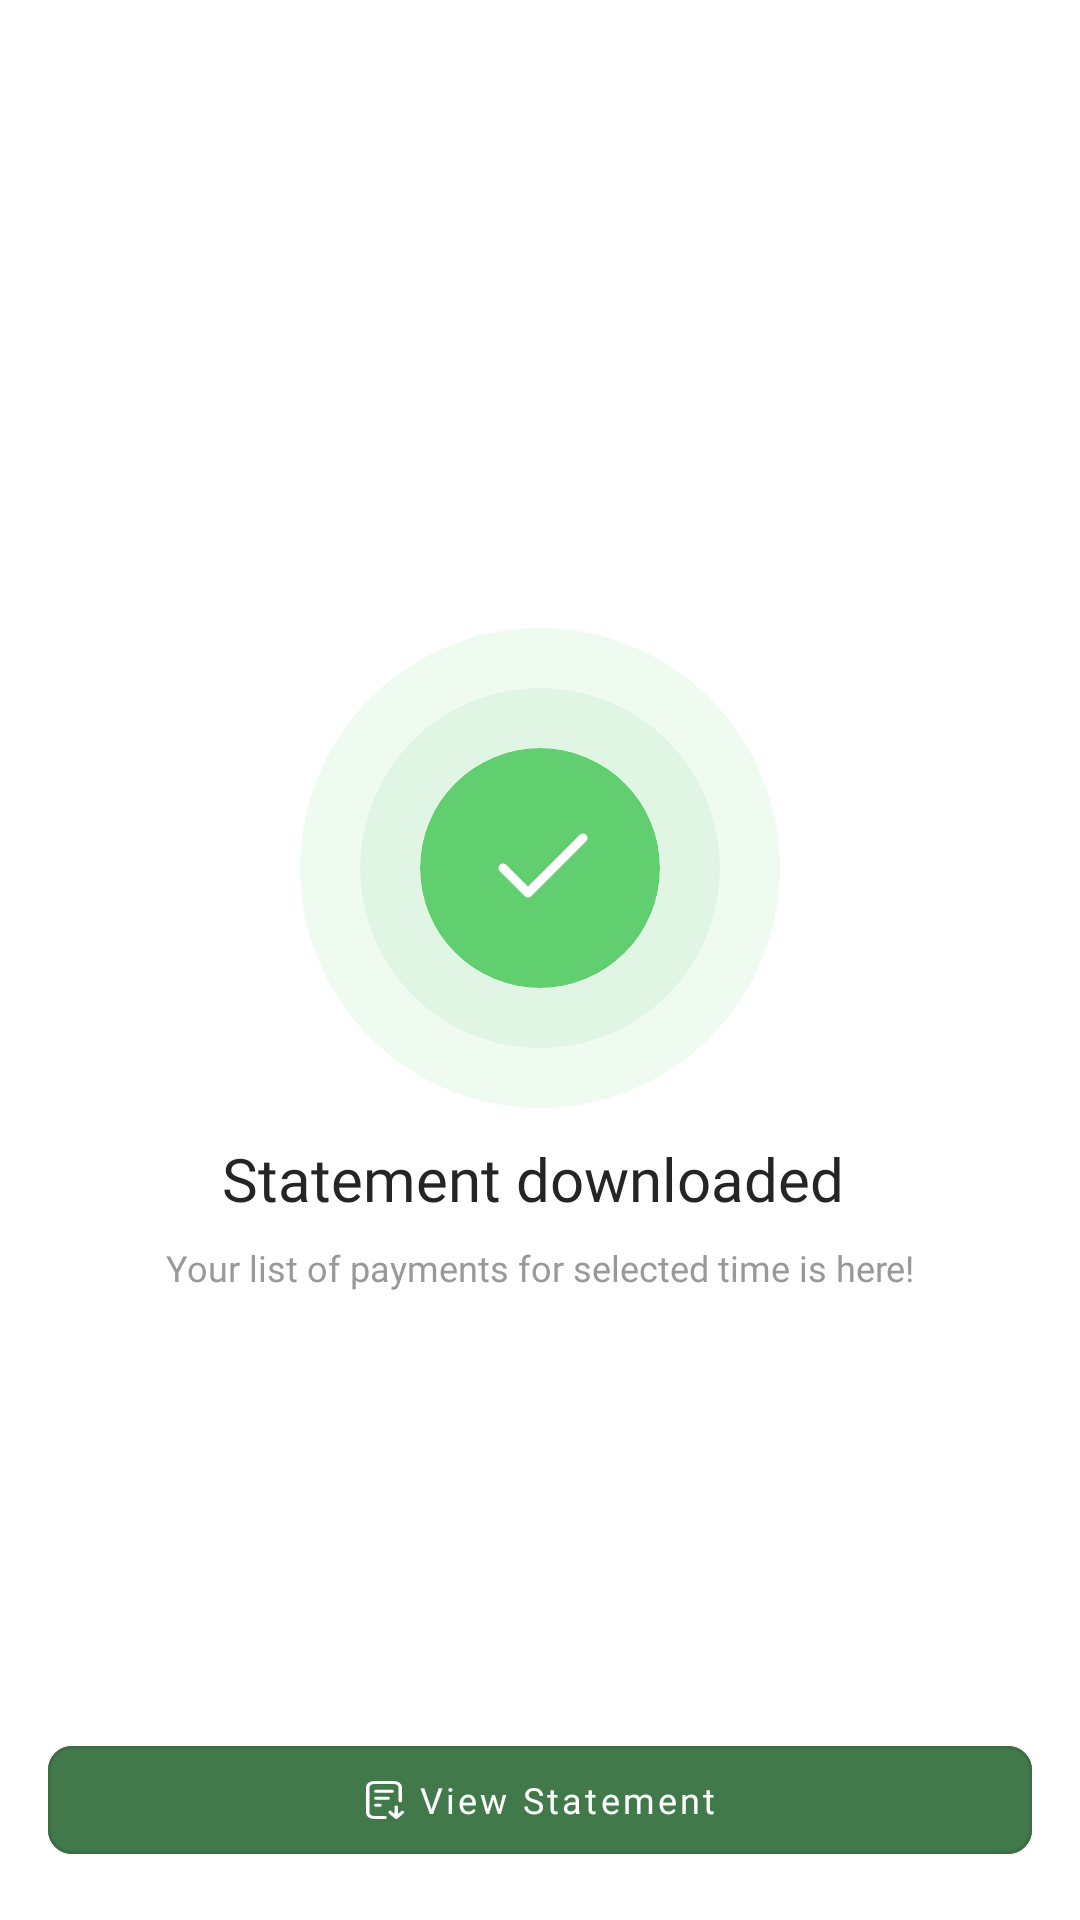

Screen size 1080×1920. Icon name, then its center in pixels as [x,y]:
tick: [540,868]
